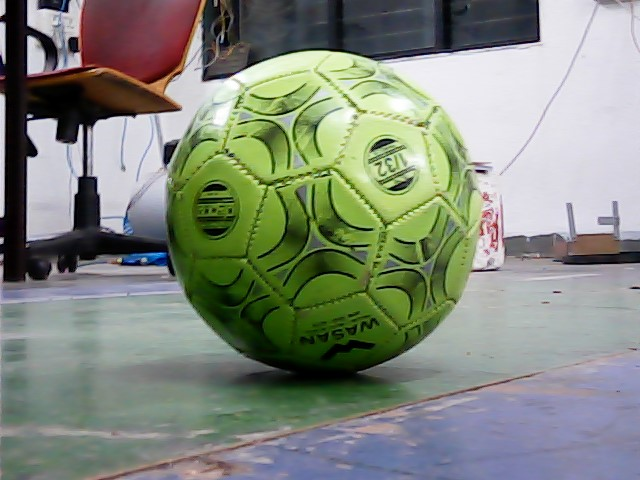Green_ball: (159, 50, 486, 380)
